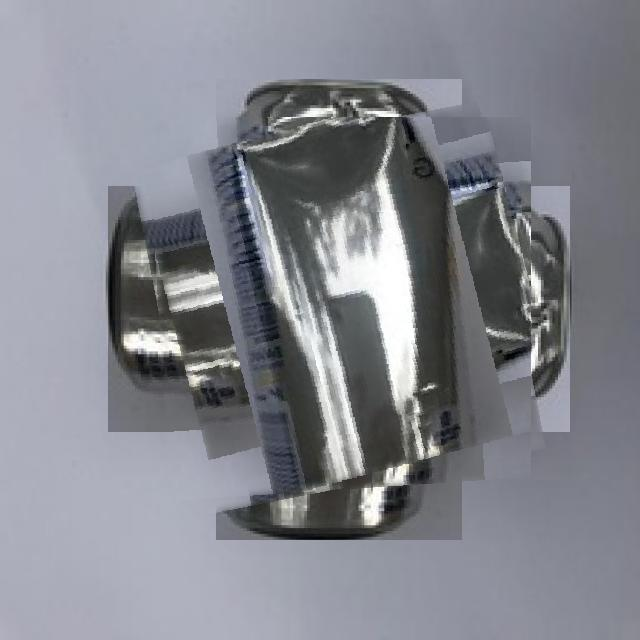recyclable: (147, 117, 531, 501)
